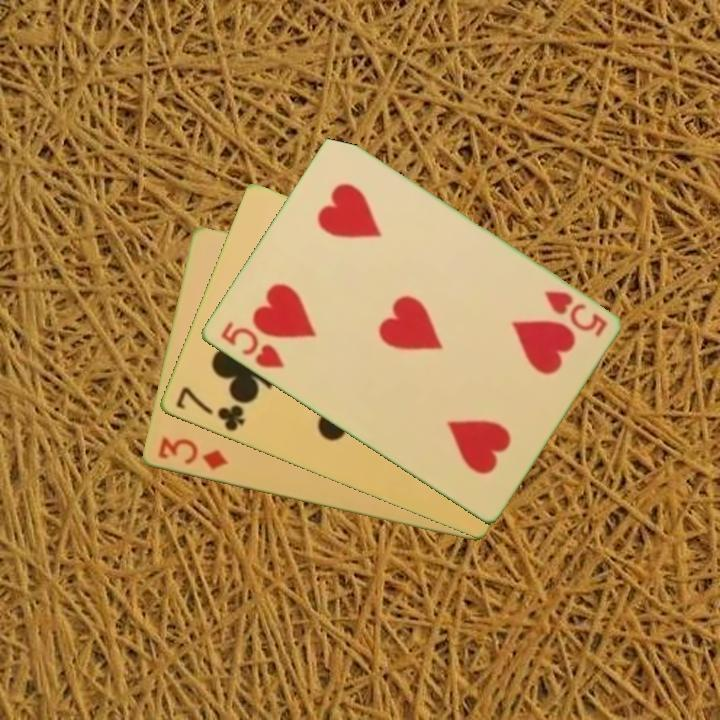3d: (153, 434, 231, 473)
5h: (216, 318, 287, 372), (540, 287, 610, 340)
7c: (171, 383, 247, 435)
